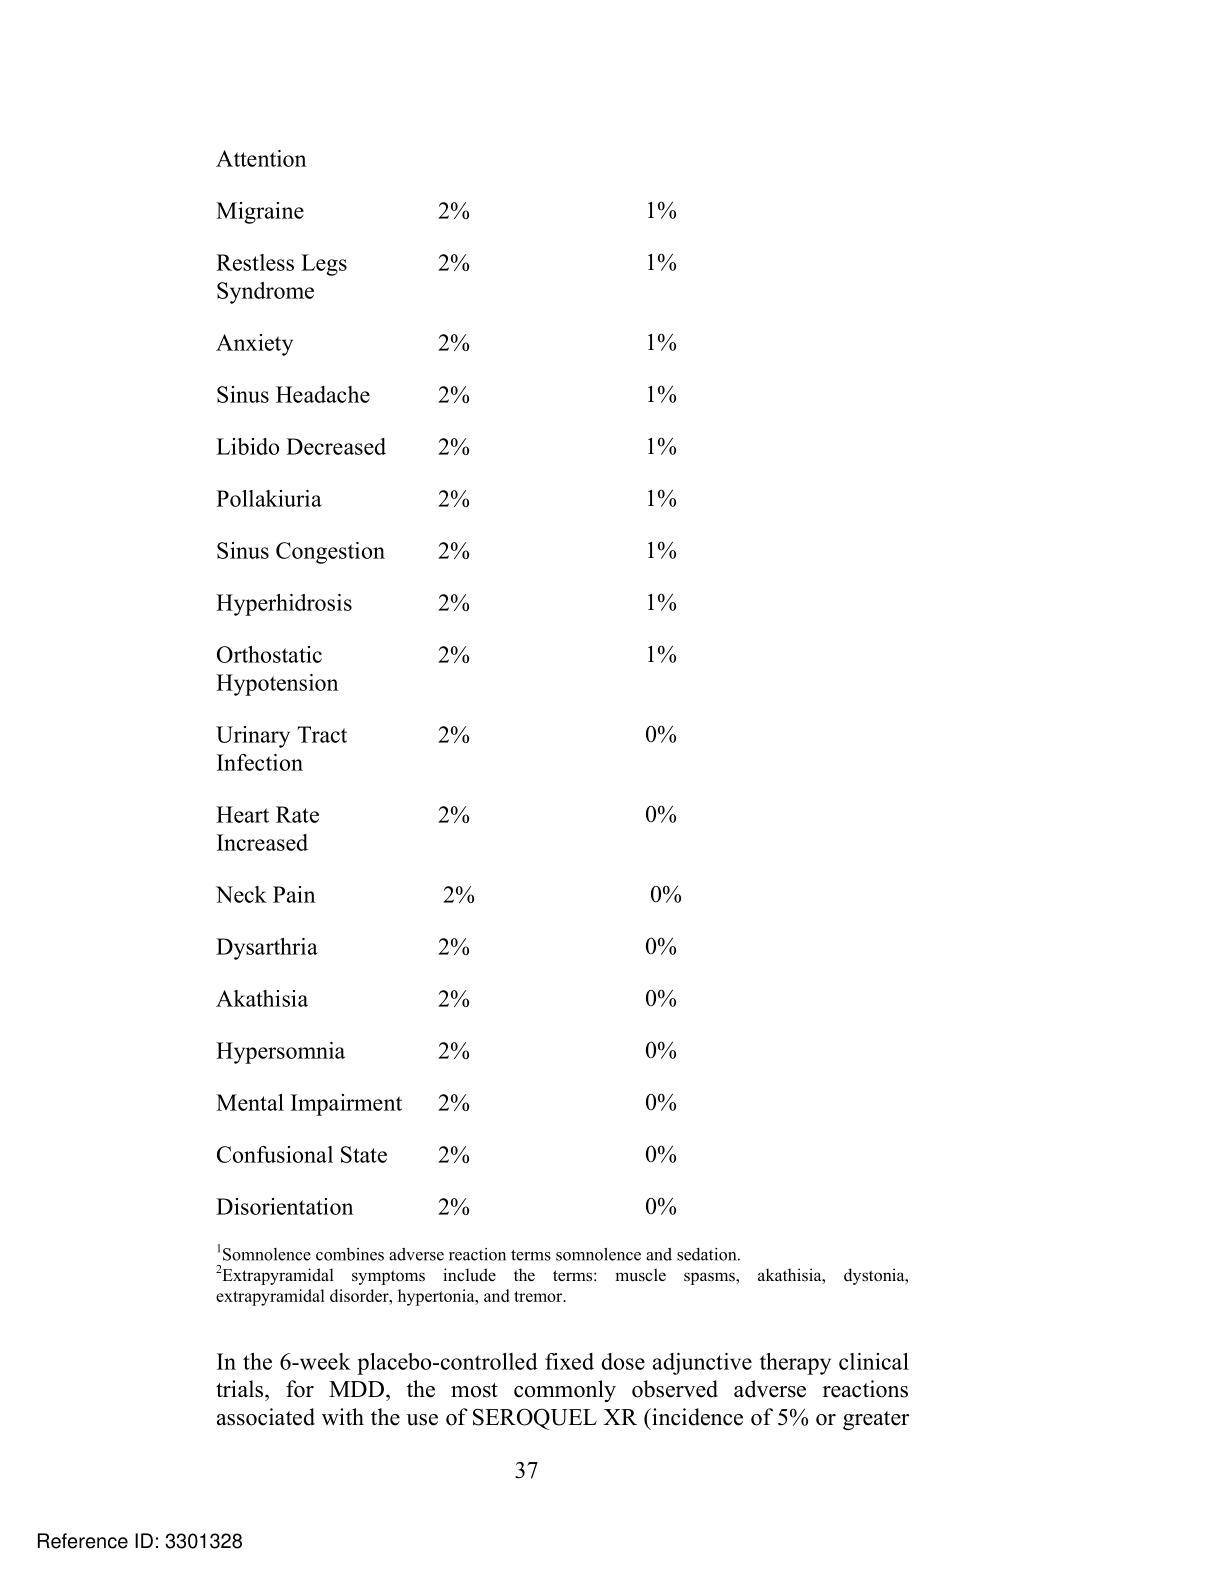nolines: (213, 145, 680, 1223)
